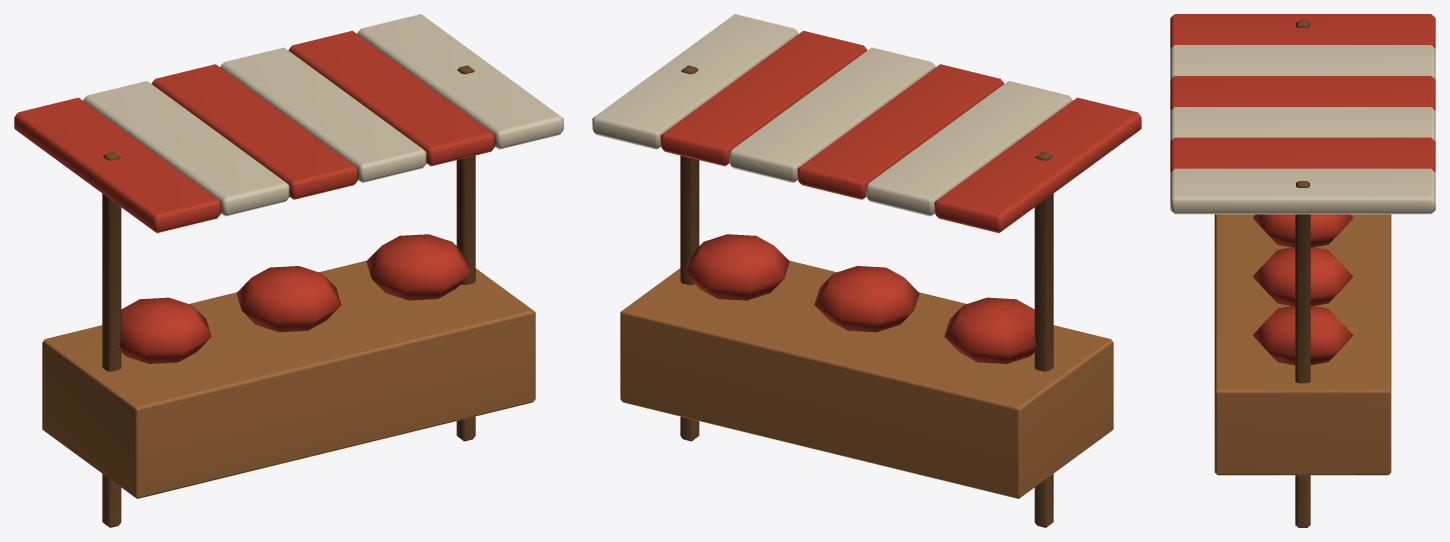
The model's file is chilli_stall.glb.
The picture shows the model from 3 angles, left to right: view 1: azimuth 30°, elevation 25°; view 2: azimuth 150°, elevation 25°; view 3: azimuth 270°, elevation 25°; orthographic projection. The views are drawn at different scales.
Visible parts, largest first — view 1: chilli_stall; view 2: chilli_stall; view 3: chilli_stall.
Boxes of the visible parts, box(x1,y1,x2,y2) form: chilli_stall: box(14, 14, 563, 527); chilli_stall: box(592, 14, 1141, 527); chilli_stall: box(1170, 14, 1435, 527).
Size of the model in its own units: 3.48 by 3 by 2.1.
